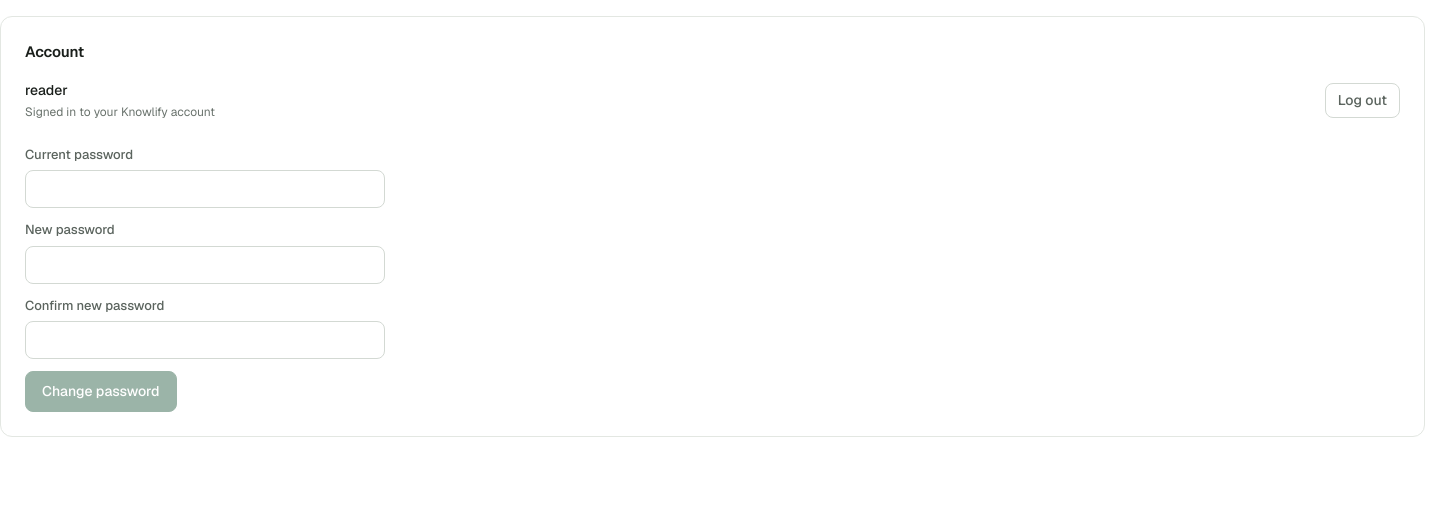
AccountCard › sends {current,next}, clears the form, confirms and keeps the new credentials
Type "current-pass" into the password field labelled "Current password". click: coordinates (205, 189)
box: [25,170,385,208]
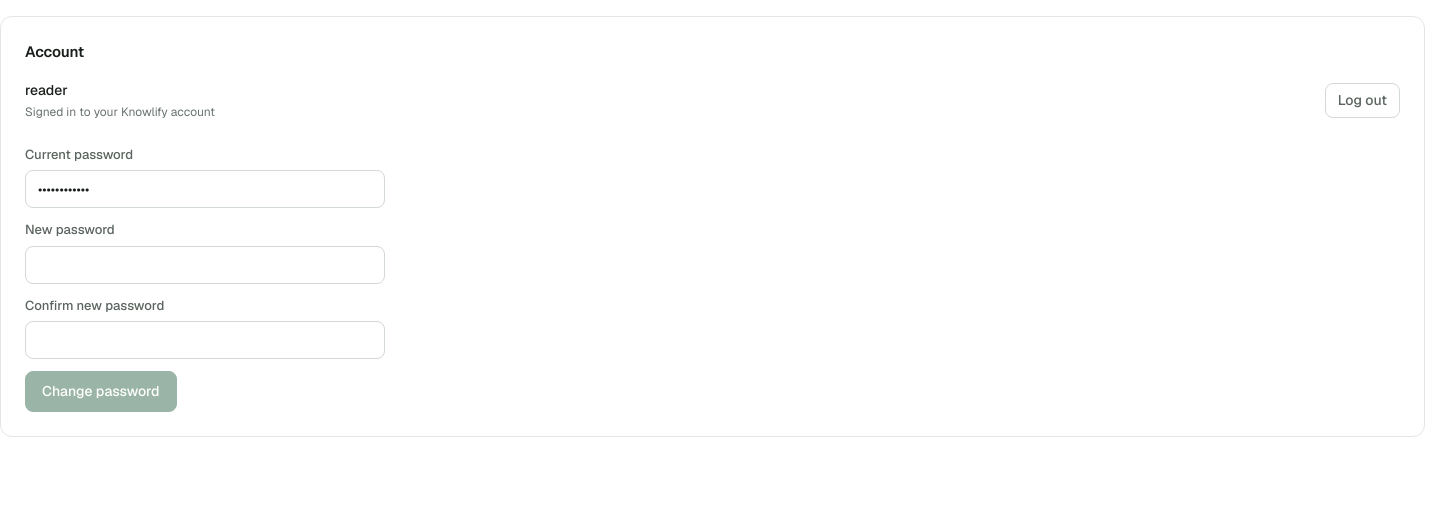
Type "next-password" into the password field labelled "New password". click: coordinates (205, 264)
box: [25,246,385,284]
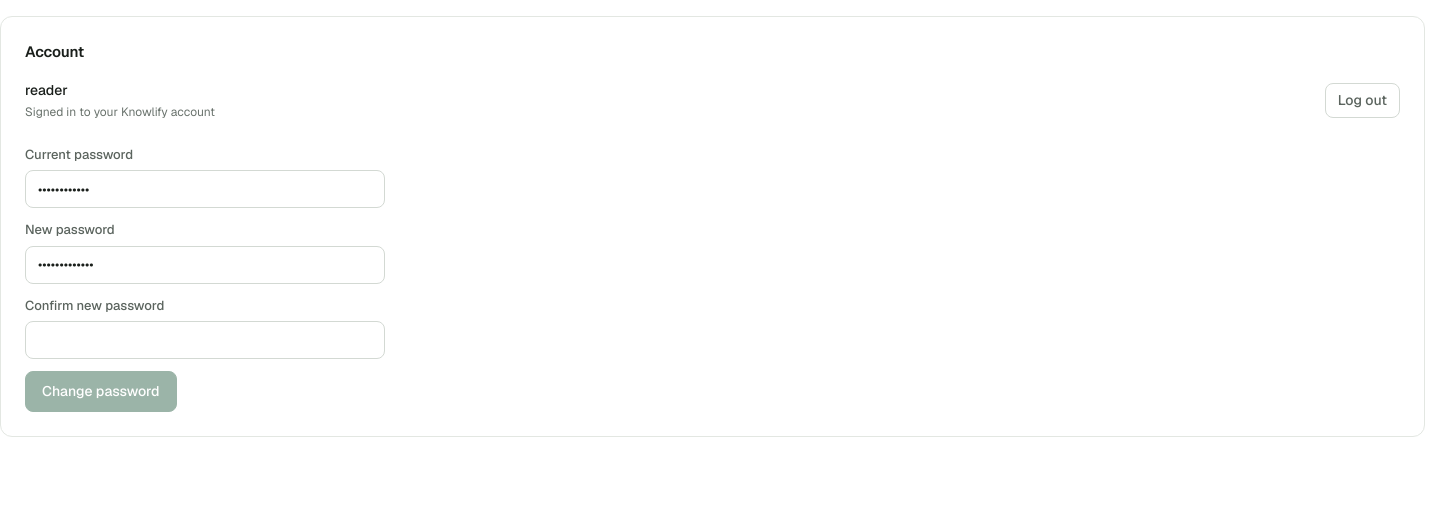
Type "next-password" into the password field labelled "Confirm new password". click: coordinates (205, 340)
box: [25,321,385,359]
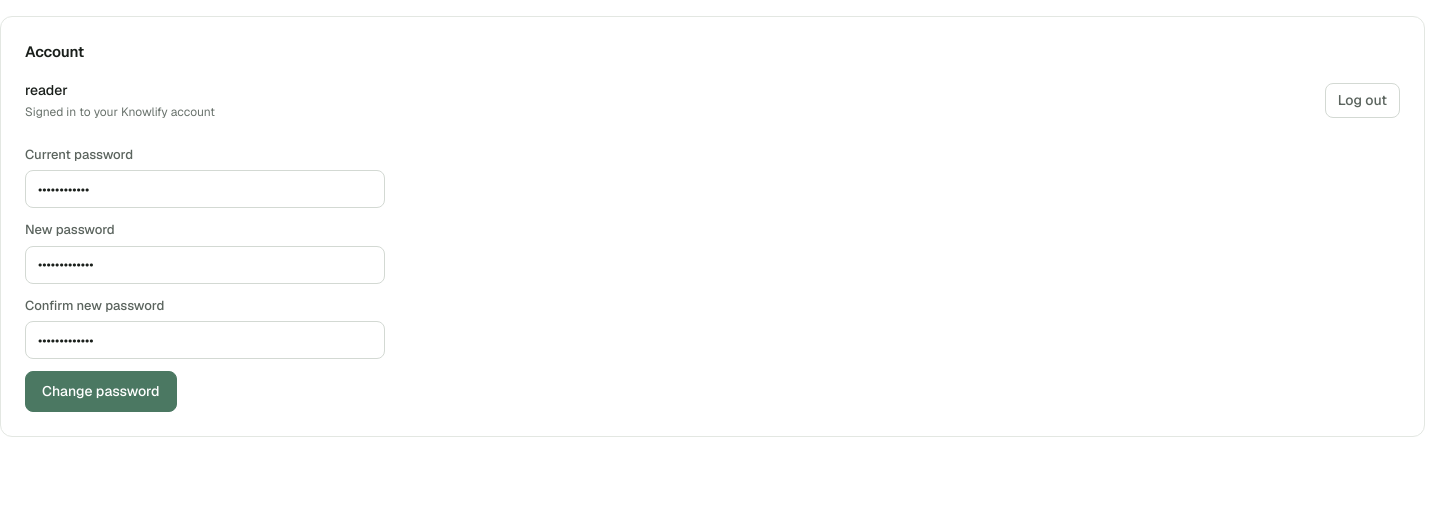
Click the button "Change password". click: coordinates (101, 392)
box: [25,371,176,412]
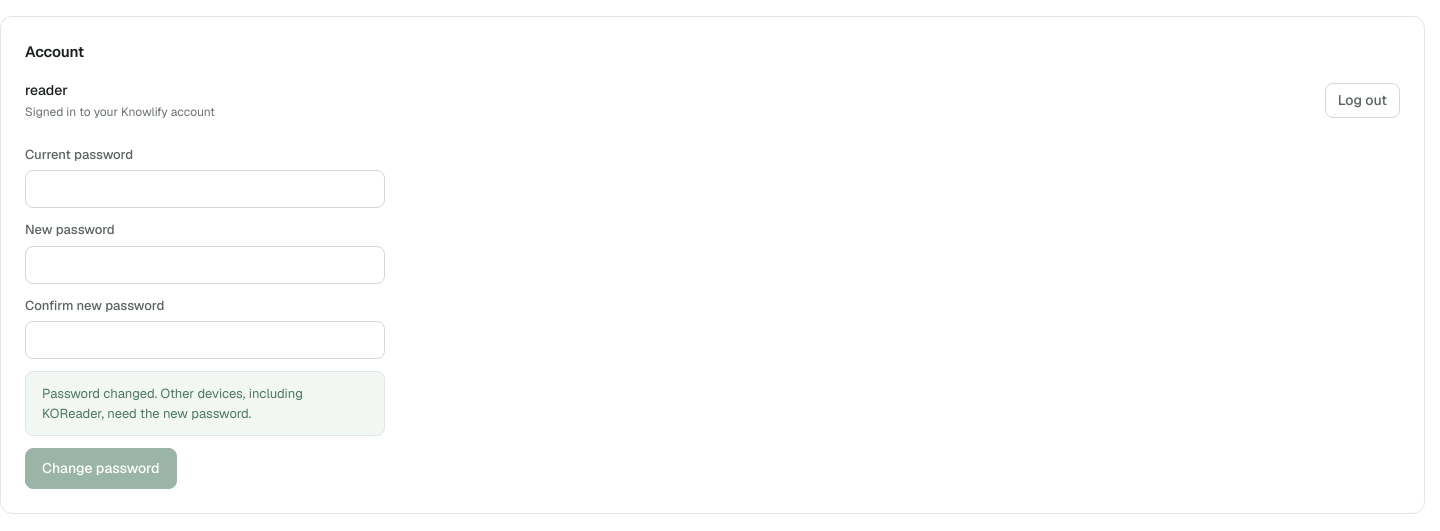
Expected: the text "Password changed. Other devices, including KOReader, need the new password." is shown, [25,371,385,436]
Expected: the password field labelled "Current password" is empty, [25,170,385,208]
Expected: the password field labelled "New password" is empty, [25,246,385,284]
